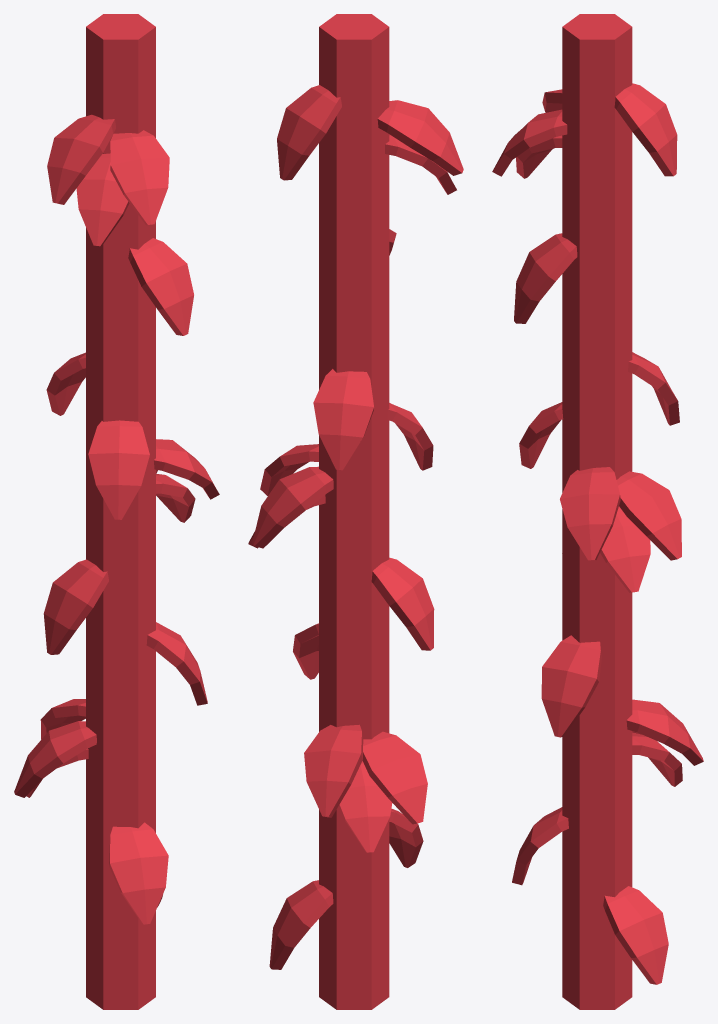
Rendered from vine_line.fbx.
3 views of the same model, side by side, from view 1: azimuth 30°, elevation 25°; view 2: azimuth 150°, elevation 25°; view 3: azimuth 270°, elevation 25° (orthographic).
Parts seen in each view (by area): view 1: Cylinder, Plane.016, Plane.012, Plane.008, Plane.014, Plane.009, Plane.011, Plane.007, Plane.002, Plane.010, Plane.006, Plane.013 (+2 smaller); view 2: Cylinder, Plane.013, Plane.003, Plane.002, Plane.015, Plane.009, Plane.011, Plane.005, Plane, Plane.001, Plane.016, Plane.012 (+3 smaller); view 3: Cylinder, Plane.010, Plane.006, Plane, Plane.005, Plane.015, Plane.014, Plane.004, Plane.003, Plane.008, Plane.012, Plane.016 (+3 smaller).
Part boxes in pixels (box(x1,y1,x2,y2)): Cylinder: box(86, 14, 155, 1009); Plane.016: box(88, 420, 149, 519); Plane.012: box(109, 822, 168, 924); Plane.008: box(110, 130, 169, 225); Plane.014: box(128, 238, 193, 335); Plane.009: box(47, 114, 115, 204); Plane.011: box(43, 559, 108, 654); Plane.007: box(76, 153, 129, 246); Plane.002: box(14, 721, 96, 797); Plane.010: box(146, 622, 207, 705); Plane.006: box(153, 439, 219, 499); Plane.013: box(46, 352, 85, 415); Cylinder: box(319, 14, 389, 1009); Plane.013: box(313, 369, 373, 470); Plane.003: box(304, 724, 363, 817); Plane.002: box(362, 731, 427, 824); Plane.015: box(277, 85, 341, 180); Plane.009: box(377, 100, 463, 175); Plane.011: box(371, 557, 434, 650); Plane.005: box(252, 466, 333, 548); Plane: box(269, 880, 333, 969); Plane.001: box(339, 761, 392, 852); Plane.016: box(387, 403, 433, 470); Plane.012: box(389, 808, 423, 867); Cylinder: box(562, 14, 632, 1009); Plane.010: box(541, 635, 601, 737); Plane.006: box(560, 467, 620, 560); Plane: box(603, 886, 668, 984); Plane.005: box(616, 471, 681, 560); Plane.015: box(614, 83, 677, 176); Plane.014: box(514, 233, 577, 323); Plane.004: box(600, 506, 650, 592); Plane.003: box(626, 699, 703, 765); Plane.008: box(492, 109, 567, 176); Plane.012: box(512, 807, 568, 885); Plane.016: box(519, 402, 563, 468).
Bounding box in the file's own units: 98.93 × 500 × 98.9.
